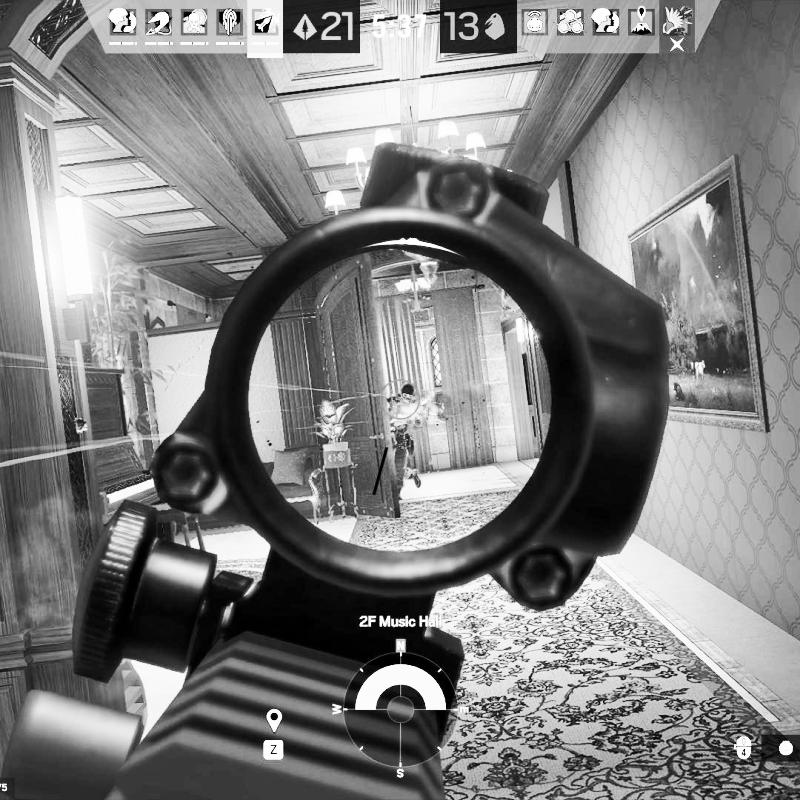Character: (380, 380, 431, 495)
Head: (399, 382, 416, 400)
